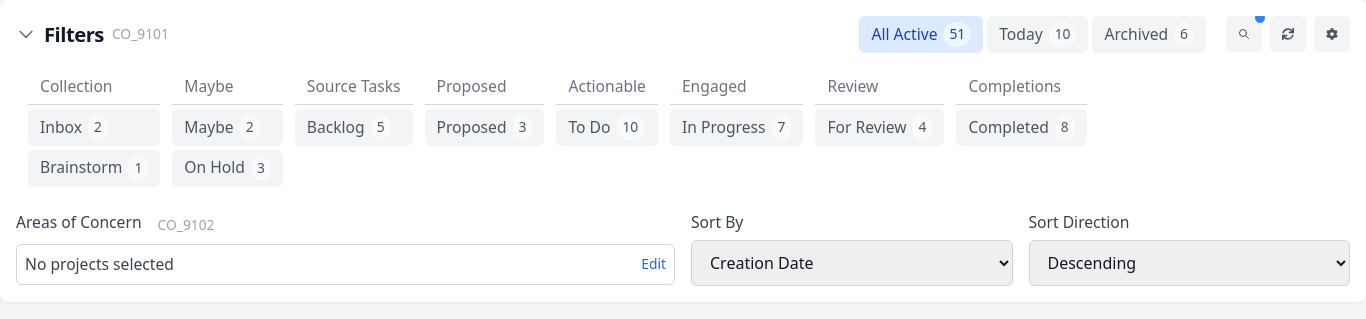
Test case: TaskFilters Component › clicking the expand/collapse button toggles the filter panel
The image size is (1366, 319).
# Click the button to collapse the panel
Click the button named "Collapse filters": (26, 34) x1=16 y1=24 x2=36 y2=44
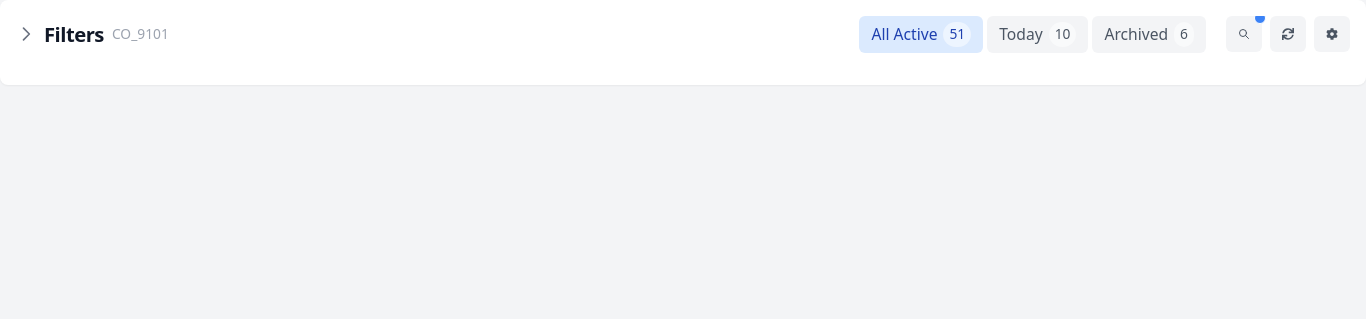
# Click again to expand it
Click the button named "Collapse filters": (26, 34) x1=16 y1=24 x2=36 y2=44
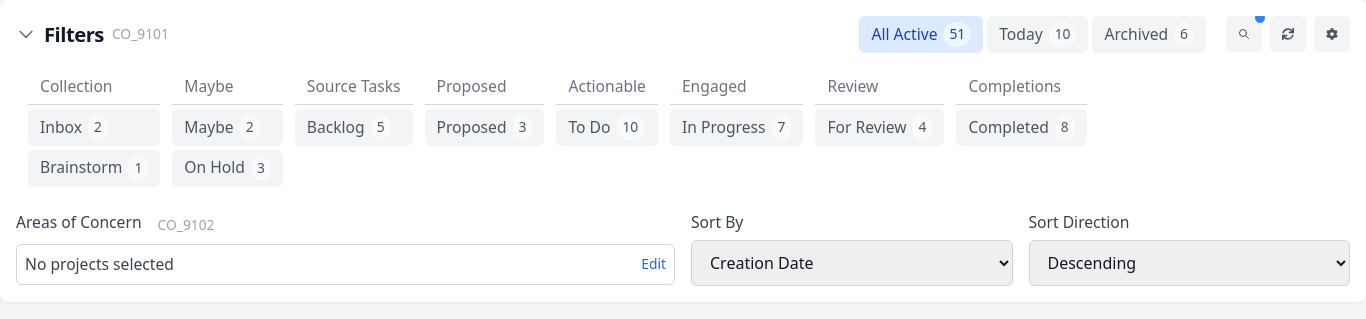
Expected: the button named "Collapse filters" is shown, x1=16 y1=24 x2=36 y2=44
